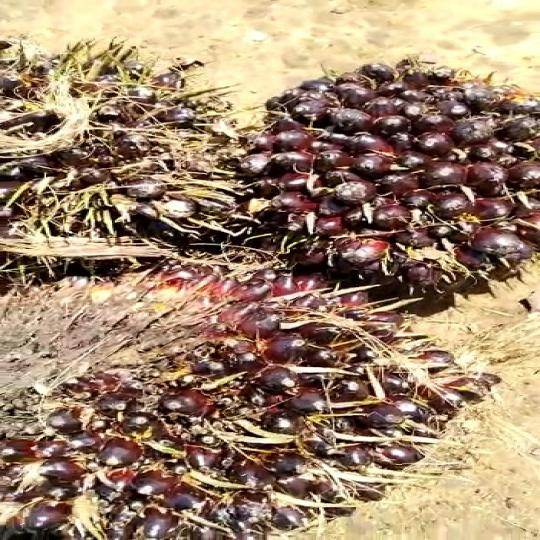mentah: (0, 253, 485, 540), (234, 48, 540, 305), (0, 28, 259, 279)
